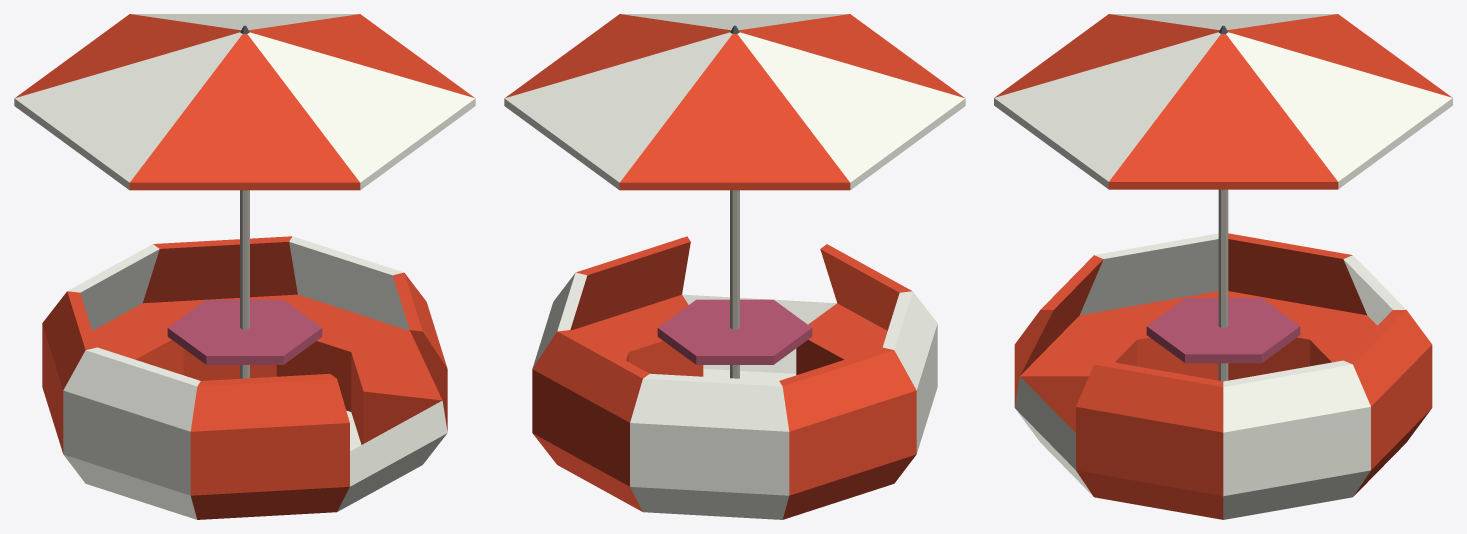
The model's file is Water_Ride_Tube_2.fbx.
3 views of the same model, side by side, from view 1: azimuth 30°, elevation 25°; view 2: azimuth 150°, elevation 25°; view 3: azimuth 270°, elevation 25° (orthographic).
Parts seen in each view (by area): view 1: Water_Ride_Tube_2; view 2: Water_Ride_Tube_2; view 3: Water_Ride_Tube_2.
Boxes of the visible parts, x1,y1,x2,y2 form: Water_Ride_Tube_2: [14, 14, 475, 519]; Water_Ride_Tube_2: [504, 14, 965, 519]; Water_Ride_Tube_2: [994, 14, 1452, 519].
Size of the model in its own units: 171 by 188 by 188.
